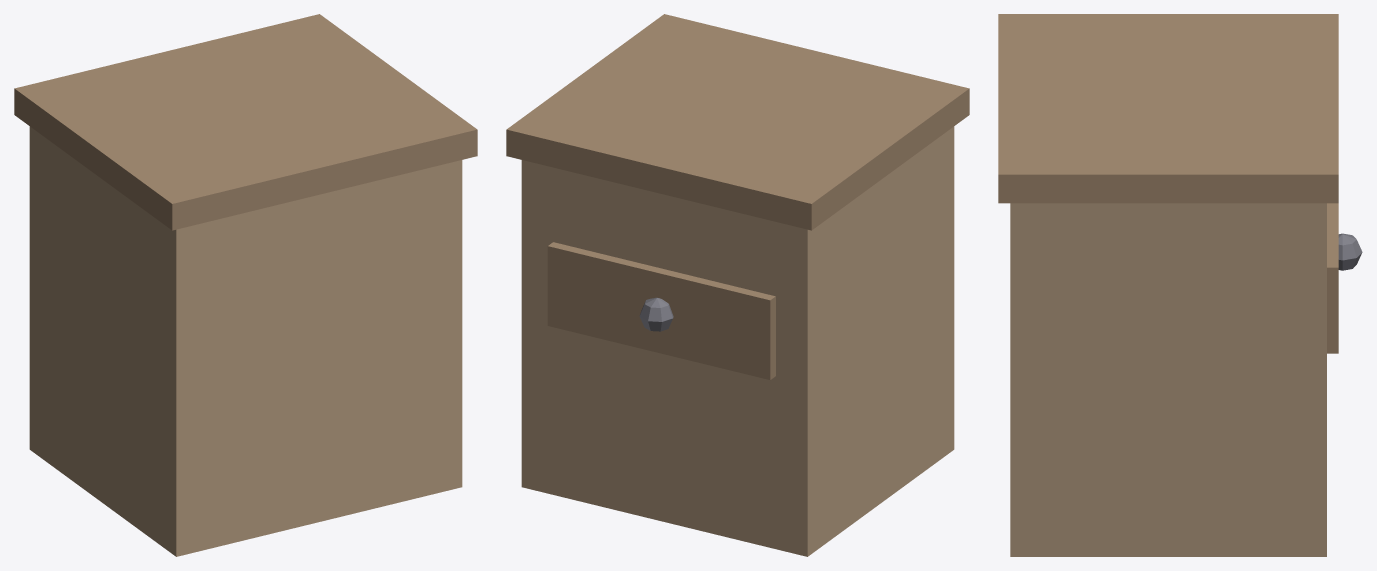
The model's file is kid_criado_inf.glb.
3 views of the same model, side by side, from view 1: azimuth 30°, elevation 25°; view 2: azimuth 150°, elevation 25°; view 3: azimuth 270°, elevation 25° (orthographic). The views are drawn at different scales.
Visible parts, largest first — view 1: KID_CRIADO_INF_v01; view 2: KID_CRIADO_INF_v01; view 3: KID_CRIADO_INF_v01.
Part boxes in pixels (x1=…): KID_CRIADO_INF_v01: x1=14, y1=14, x2=477, y2=556; KID_CRIADO_INF_v01: x1=506, y1=14, x2=969, y2=556; KID_CRIADO_INF_v01: x1=998, y1=14, x2=1362, y2=556.
Size of the model in its own units: 0.48 by 0.54 by 0.46.
